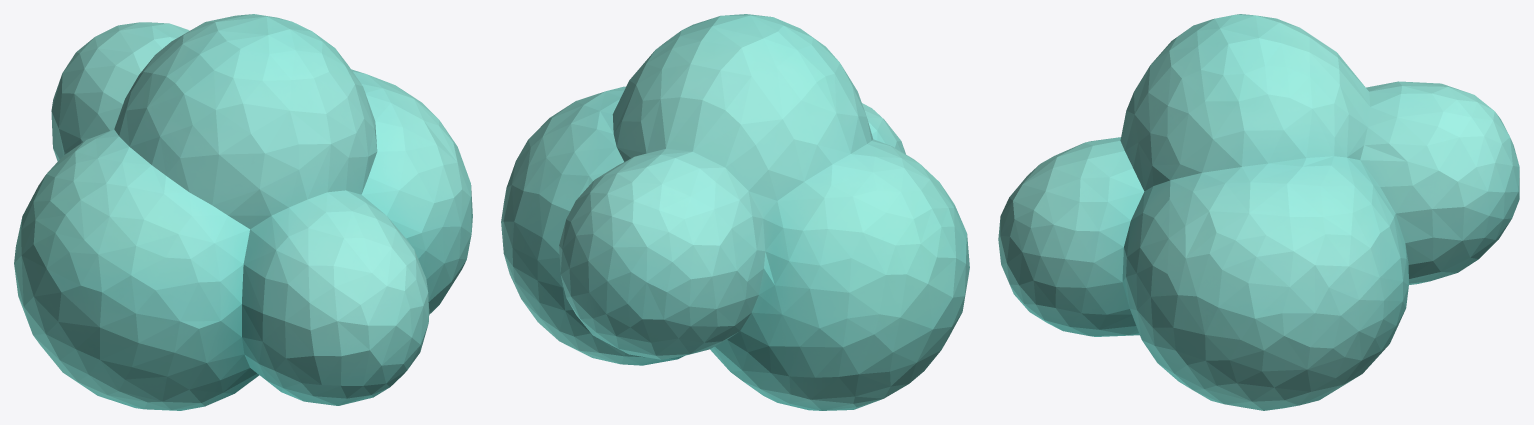
Rendered from cloud_small.fbx.
The picture shows the model from 3 angles, left to right: view 1: azimuth 30°, elevation 25°; view 2: azimuth 150°, elevation 25°; view 3: azimuth 270°, elevation 25°; orthographic projection. The views are drawn at different scales.
Parts seen in each view (by area): view 1: Mesh_0; view 2: Mesh_0; view 3: Mesh_0.
Boxes of the visible parts, bbox=[...] form: Mesh_0: bbox=[14, 14, 472, 410]; Mesh_0: bbox=[501, 14, 969, 410]; Mesh_0: bbox=[998, 14, 1519, 410].
Size of the model in its own units: 1.29 by 1 by 1.41.
1 material, 1 textured.
